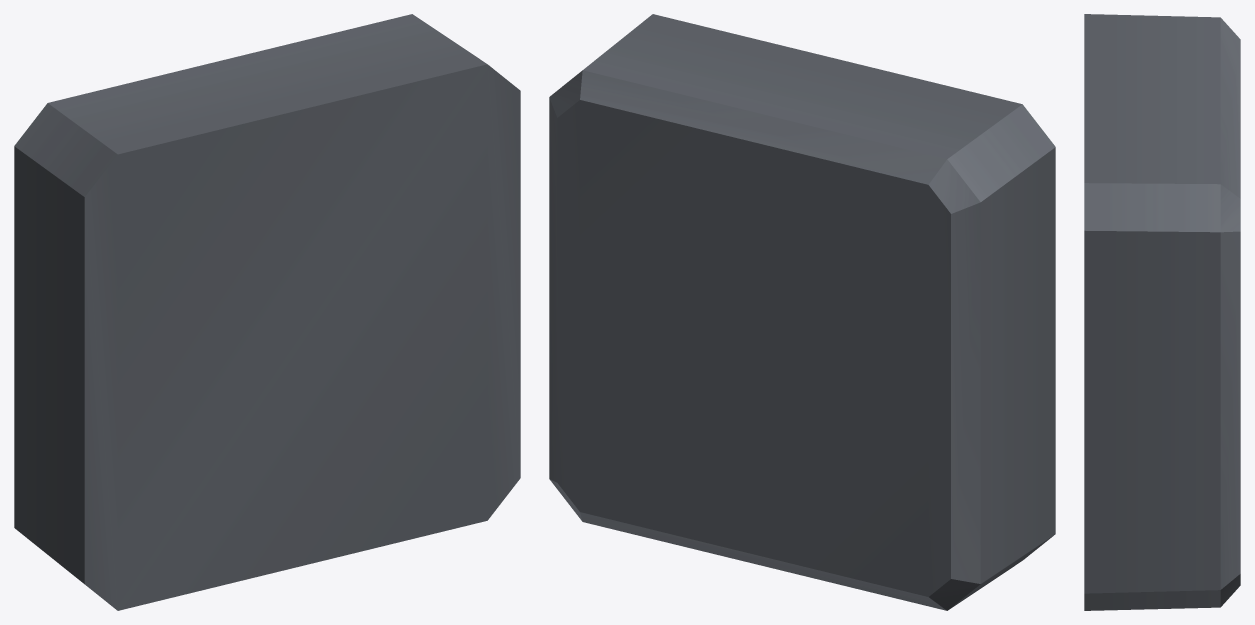
Rendered from Low Parapet Corner 01.FBX.
3 renders of one model, left to right at view 1: azimuth 30°, elevation 25°; view 2: azimuth 150°, elevation 25°; view 3: azimuth 270°, elevation 25°, orthographic. The views are drawn at different scales.
Parts seen in each view (by area): view 1: Low Parapet Corner 01; view 2: Low Parapet Corner 01; view 3: Low Parapet Corner 01.
Part boxes in pixels (x1,y1,x2,y2): Low Parapet Corner 01: (14, 14, 520, 610); Low Parapet Corner 01: (549, 14, 1055, 610); Low Parapet Corner 01: (1084, 14, 1240, 610).
Size of the model in its own units: 92.04 by 92.06 by 30.51.
